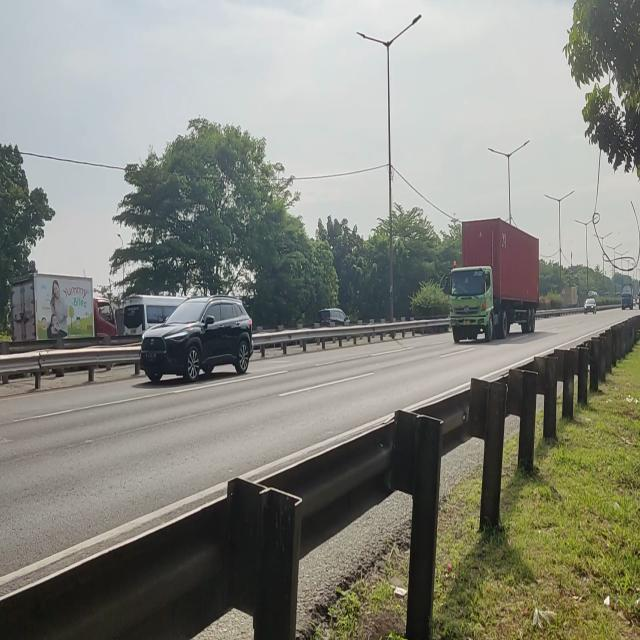Golongan I: (132, 287, 257, 390)
Golongan IV: (446, 215, 540, 346)
